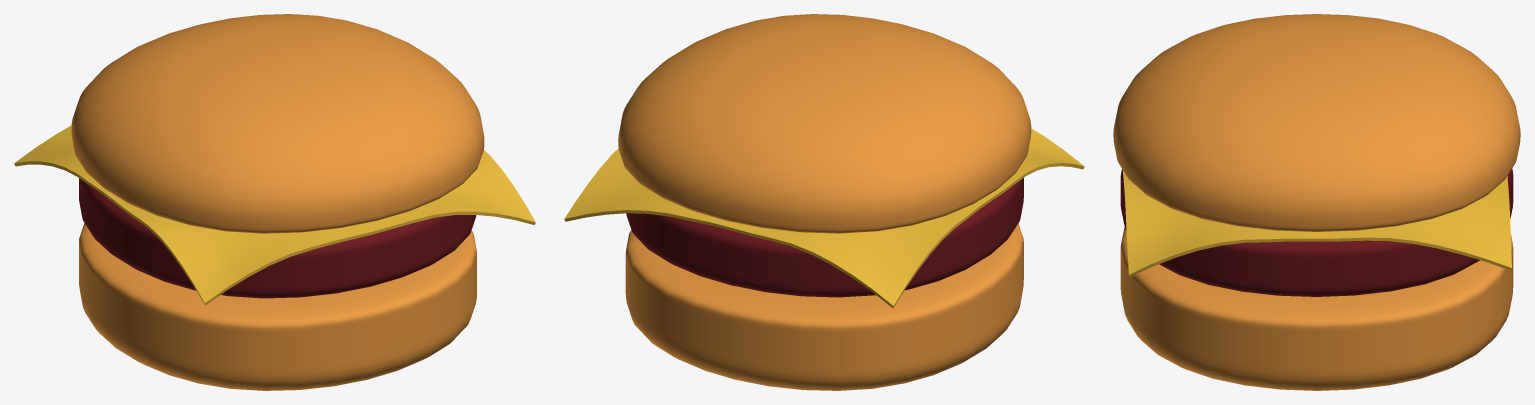
File: hamburger.glb
The picture shows the model from 3 angles, left to right: view 1: azimuth 30°, elevation 25°; view 2: azimuth 150°, elevation 25°; view 3: azimuth 270°, elevation 25°; orthographic projection.
Parts seen in each view (by area): view 1: Cube.002, Cube, Cube.001, Plane; view 2: Cube.002, Cube, Cube.001, Plane; view 3: Cube.002, Cube, Cube.001, Plane.
Boxes of the visible parts, left/top/right/bottom form: Cube.002: left=71, top=14, right=484, bottom=233; Cube: left=79, top=223, right=476, bottom=390; Cube.001: left=79, top=178, right=476, bottom=298; Plane: left=14, top=125, right=535, bottom=305; Cube.002: left=618, top=14, right=1031, bottom=233; Cube: left=625, top=223, right=1023, bottom=390; Cube.001: left=626, top=178, right=1023, bottom=297; Plane: left=564, top=128, right=1084, bottom=307; Cube.002: left=1113, top=14, right=1520, bottom=231; Cube: left=1120, top=227, right=1513, bottom=390; Cube.001: left=1120, top=168, right=1513, bottom=296; Plane: left=1122, top=170, right=1511, bottom=276.
Bounding box in the file's own units: 9.24 × 6.99 × 9.24.
